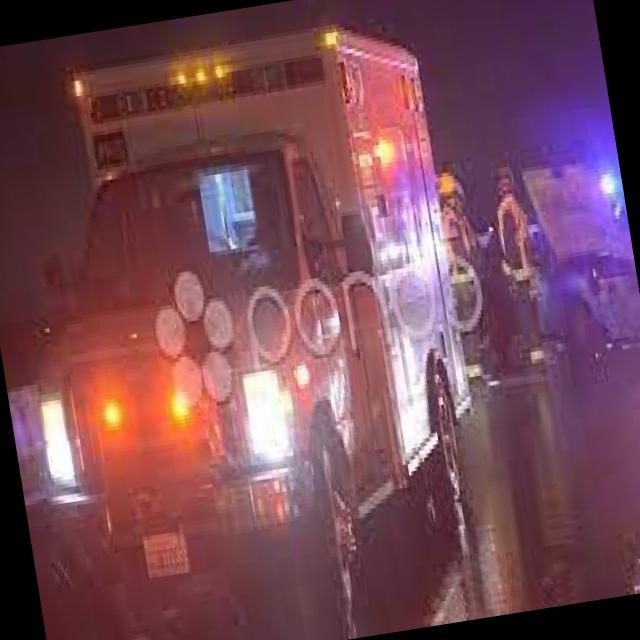ambulance: (0, 0, 499, 535)
